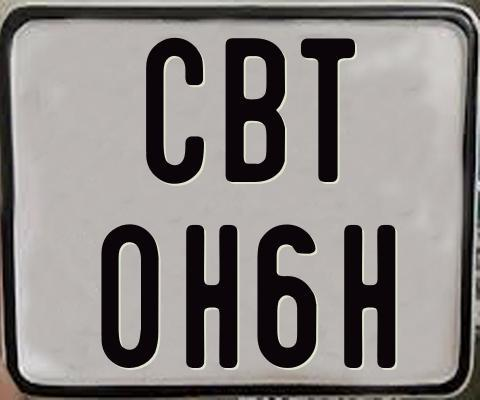0: (100, 222, 159, 367)
6: (254, 224, 319, 369)
B: (225, 35, 288, 184)
C: (144, 36, 202, 187)
H: (341, 223, 398, 372), (185, 224, 238, 372)
T: (298, 36, 354, 181)
